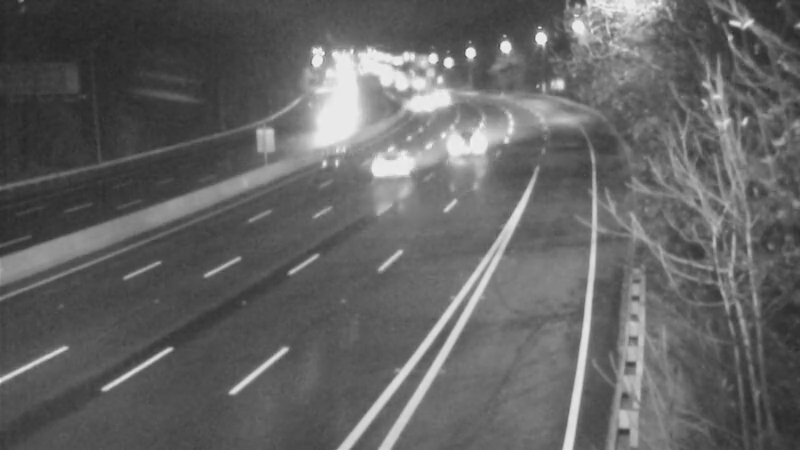vehicle: (357, 122, 437, 202), (415, 71, 465, 121), (389, 81, 439, 131), (431, 118, 481, 168), (309, 93, 359, 143)
